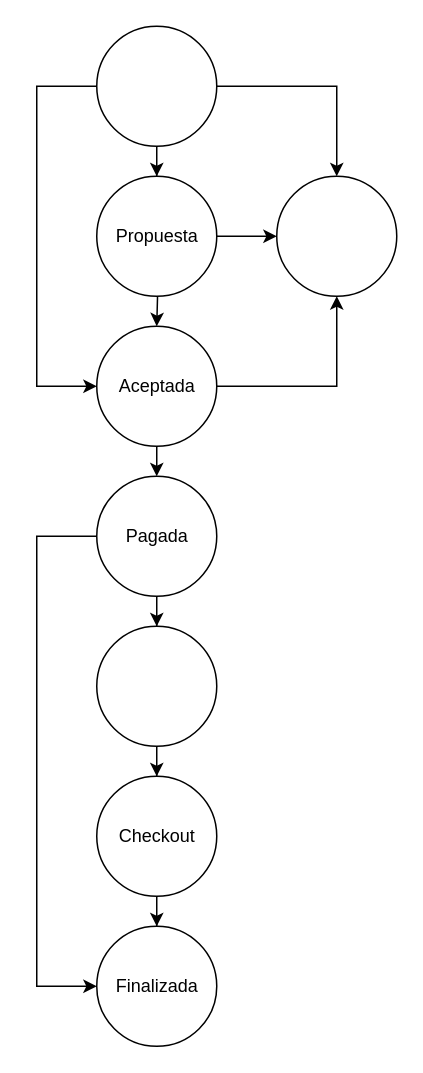
Some shapes in this 423 by 1073 pixel diagram are drawn without their labels. The centre of each missing label's shape, as x and y in pixels:
"Checkin" goes at point 156,685.
"Pendiente" goes at point 156,85.
"Rechazada" goes at point 336,235.
